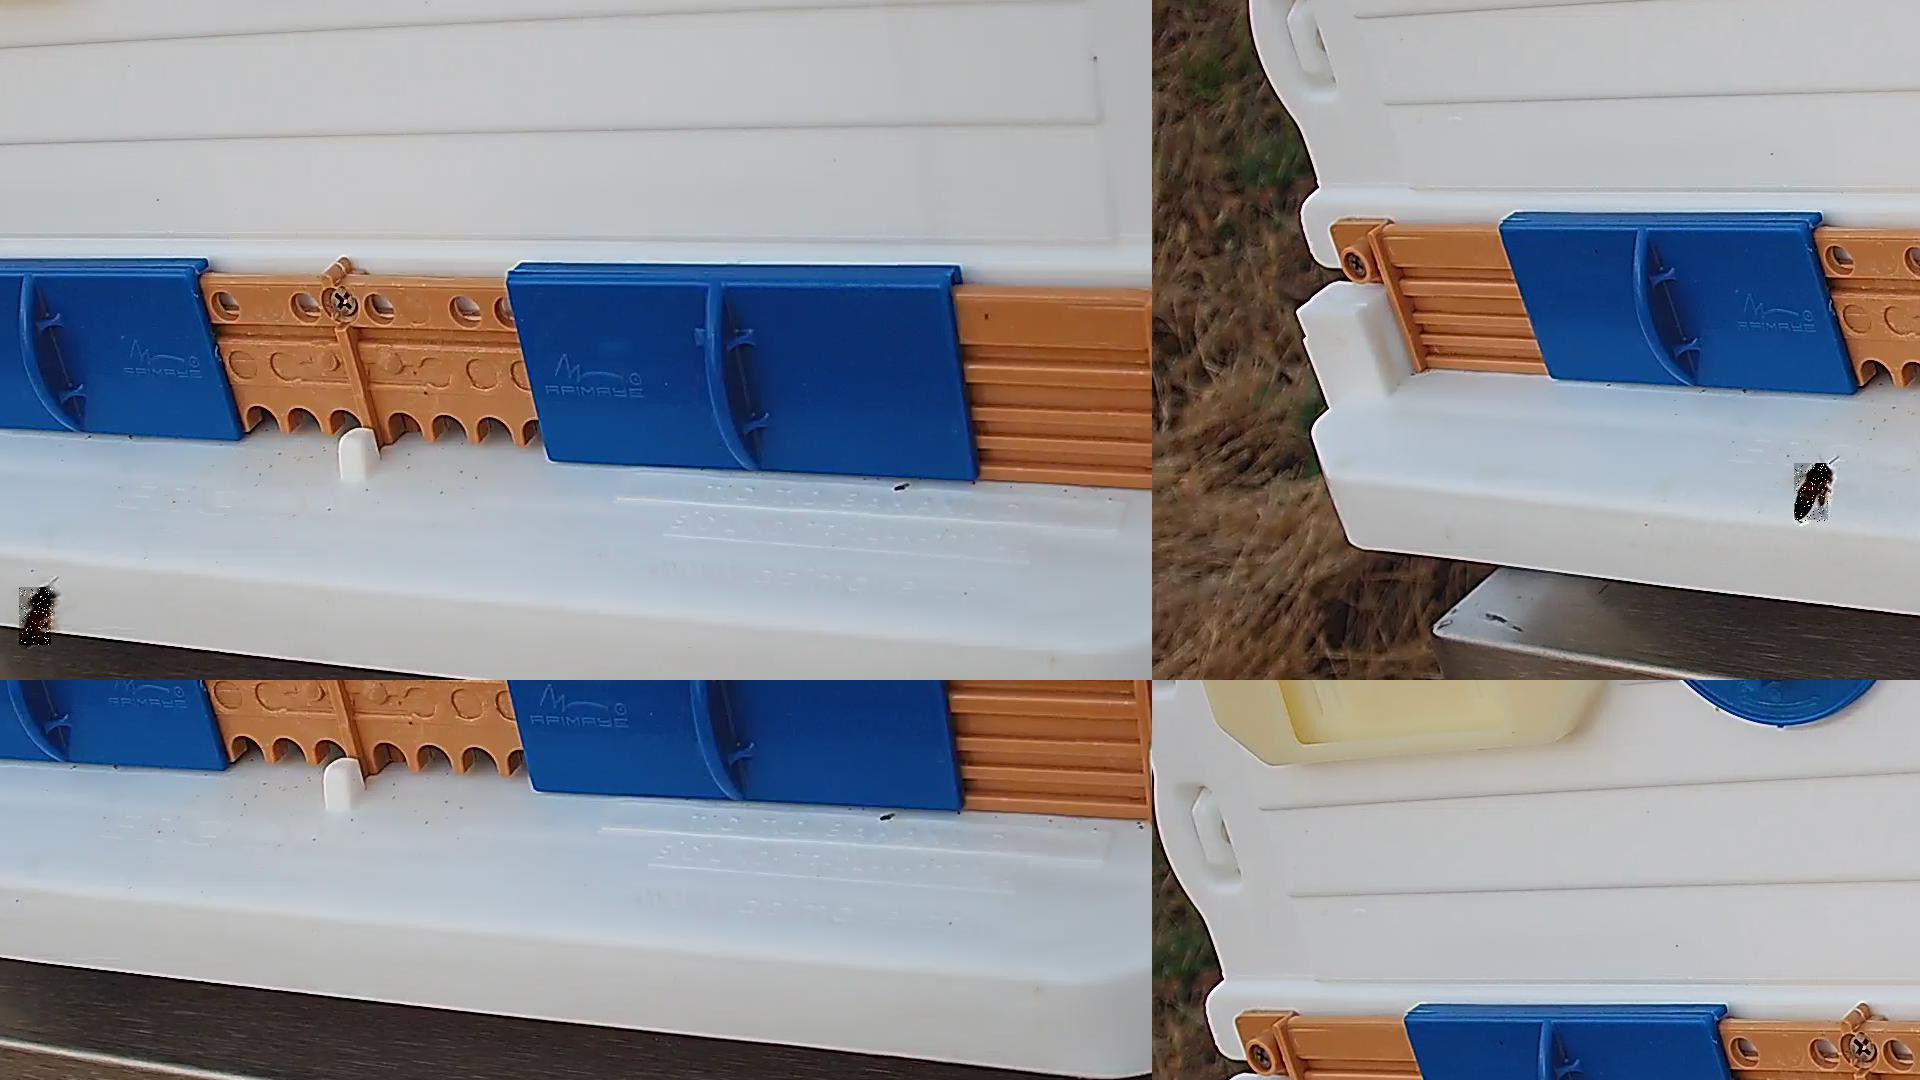bee: (20, 587, 55, 646)
pollenbee: (1795, 464, 1832, 524)
